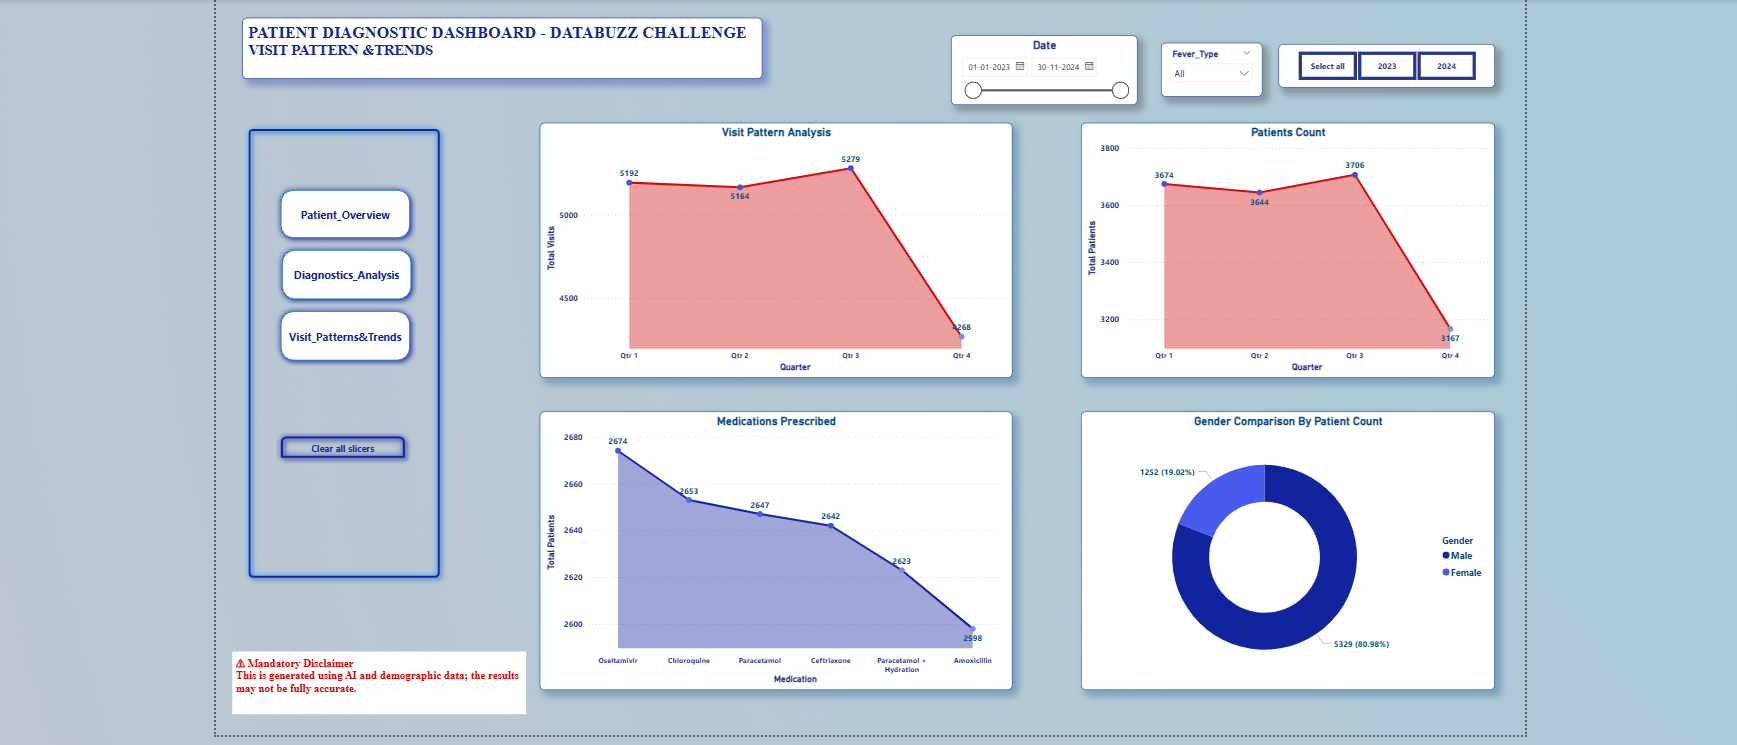

What the dashboard file says about the page in this screenshot:
{"tool":"powerbi","page":{"name":"Visit_Patterns&Trends","canvas":[1920,1080],"ordinal":2},"visuals":[{"type":"lineChart","title":"Visit Pattern Analysis","fields":{"Y":["Patient_Symptoms.Total Visits"],"Category":["Patient_Symptoms.Visit_Date.Variation.Date Hierarchy.Year","Patient_Symptoms.Visit_Date.Variation.Date Hierarchy.Quarter","Patient_Symptoms.Visit_Date.Variation.Date Hierarchy.Month","Patient_Symptoms.Visit_Date.Variation.Date Hierarchy.Day"]},"box":[475.1,181.6,693.3,374.2],"z":0},{"type":"lineChart","title":"Patients Count","fields":{"Category":["Patient_Symptoms.Visit_Date.Variation.Date Hierarchy.Year","Patient_Symptoms.Visit_Date.Variation.Date Hierarchy.Quarter","Patient_Symptoms.Visit_Date.Variation.Date Hierarchy.Month","Patient_Symptoms.Visit_Date.Variation.Date Hierarchy.Day"],"Y":["Patient_Symptoms.Total Patients"]},"box":[1269.3,181.6,607.1,374.2],"z":1000},{"type":"areaChart","title":"Medications Prescribed","fields":{"Category":["Medication.Medication"],"Y":["Patient_Symptoms.Total Patients"]},"box":[475.1,605.3,693.3,409],"z":2000},{"type":"slicer","title":"Date","fields":{"Values":["Patient_Symptoms.Visit_Date"]},"box":[1078.5,53.2,273.3,102.7],"z":3000},{"type":"slicer","fields":{"Values":["Patient_Symptoms.Fever_Type"]},"box":[1386.7,64.2,148.6,78.9],"z":4000},{"type":"slicer","fields":{"Values":["Patient_Symptoms.Visit_Date.Variation.Date Hierarchy.Year"]},"box":[1559.1,66,317.3,64.2],"z":5000},{"type":"donutChart","title":"Gender Comparison By Patient Count","fields":{"Y":["Patient_Symptoms.Total Patients"],"Category":["Patient_Table.Gender"]},"box":[1269.3,605.3,607.1,409],"z":6000},{"type":"actionButton","box":[38.5,181.6,299,676.8],"z":7000},{"type":"shape","box":[86.2,271.5,207.3,88],"z":8000},{"type":"shape","box":[88,359.5,207.3,89.9],"z":9000},{"type":"shape","box":[86.2,449.4,207.3,89.9],"z":10000},{"type":"actionButton","box":[86.2,632.8,199.9,49.5],"z":11000},{"type":"textbox","box":[38.5,27.5,724.5,115.6],"z":12000},{"type":"textbox","box":[23.8,957.5,431,91.7],"z":13000}]}

Visuals, with their boxes in screenshot pixels (x1, y1, x2, y2):
"Visit Pattern Analysis" lineChart: Rect(536, 119, 1009, 374)
"Patients Count" lineChart: Rect(1078, 119, 1491, 374)
"Medications Prescribed" areaChart: Rect(536, 408, 1009, 687)
"Date" slicer: Rect(948, 32, 1134, 102)
slicer - Patient_Symptoms.Fever_Type: Rect(1158, 39, 1259, 93)
slicer - Patient_Symptoms.Visit_Date.Variation.Date Hierarchy.Year: Rect(1275, 40, 1491, 84)
"Gender Comparison By Patient Count" donutChart: Rect(1078, 408, 1491, 687)
actionButton: Rect(239, 119, 443, 581)
shape: Rect(271, 181, 413, 240)
shape: Rect(273, 240, 414, 302)
shape: Rect(271, 302, 413, 363)
actionButton: Rect(271, 427, 408, 460)
textbox: Rect(239, 14, 733, 93)
textbox: Rect(229, 648, 523, 711)
